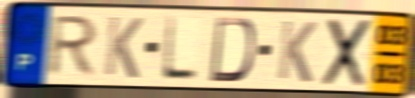D: (207, 15, 257, 85)
K: (275, 18, 319, 85), (102, 14, 146, 81)
L: (159, 15, 200, 83)
R: (44, 14, 101, 79)
X: (319, 17, 374, 89)
